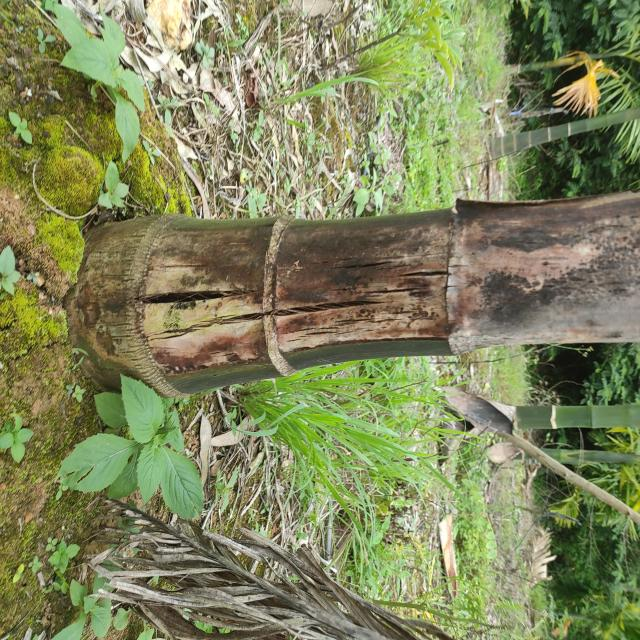Stem_Cracking: (100, 142, 558, 461)
